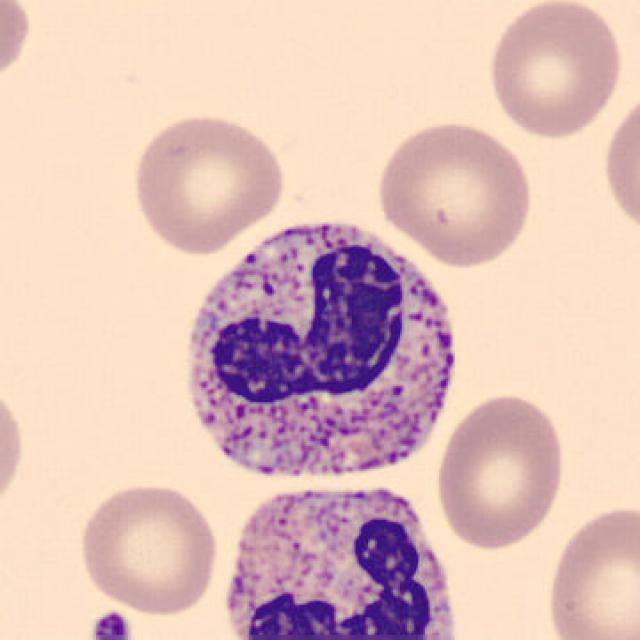Neutrophil: (167, 201, 471, 497), (213, 470, 474, 640)
Platelets: (87, 608, 133, 640)
RBC: (371, 116, 537, 270), (126, 108, 288, 258), (432, 390, 569, 554), (482, 0, 628, 141), (75, 478, 222, 617), (540, 499, 638, 640), (597, 85, 640, 243), (0, 375, 28, 523), (0, 0, 36, 97)
